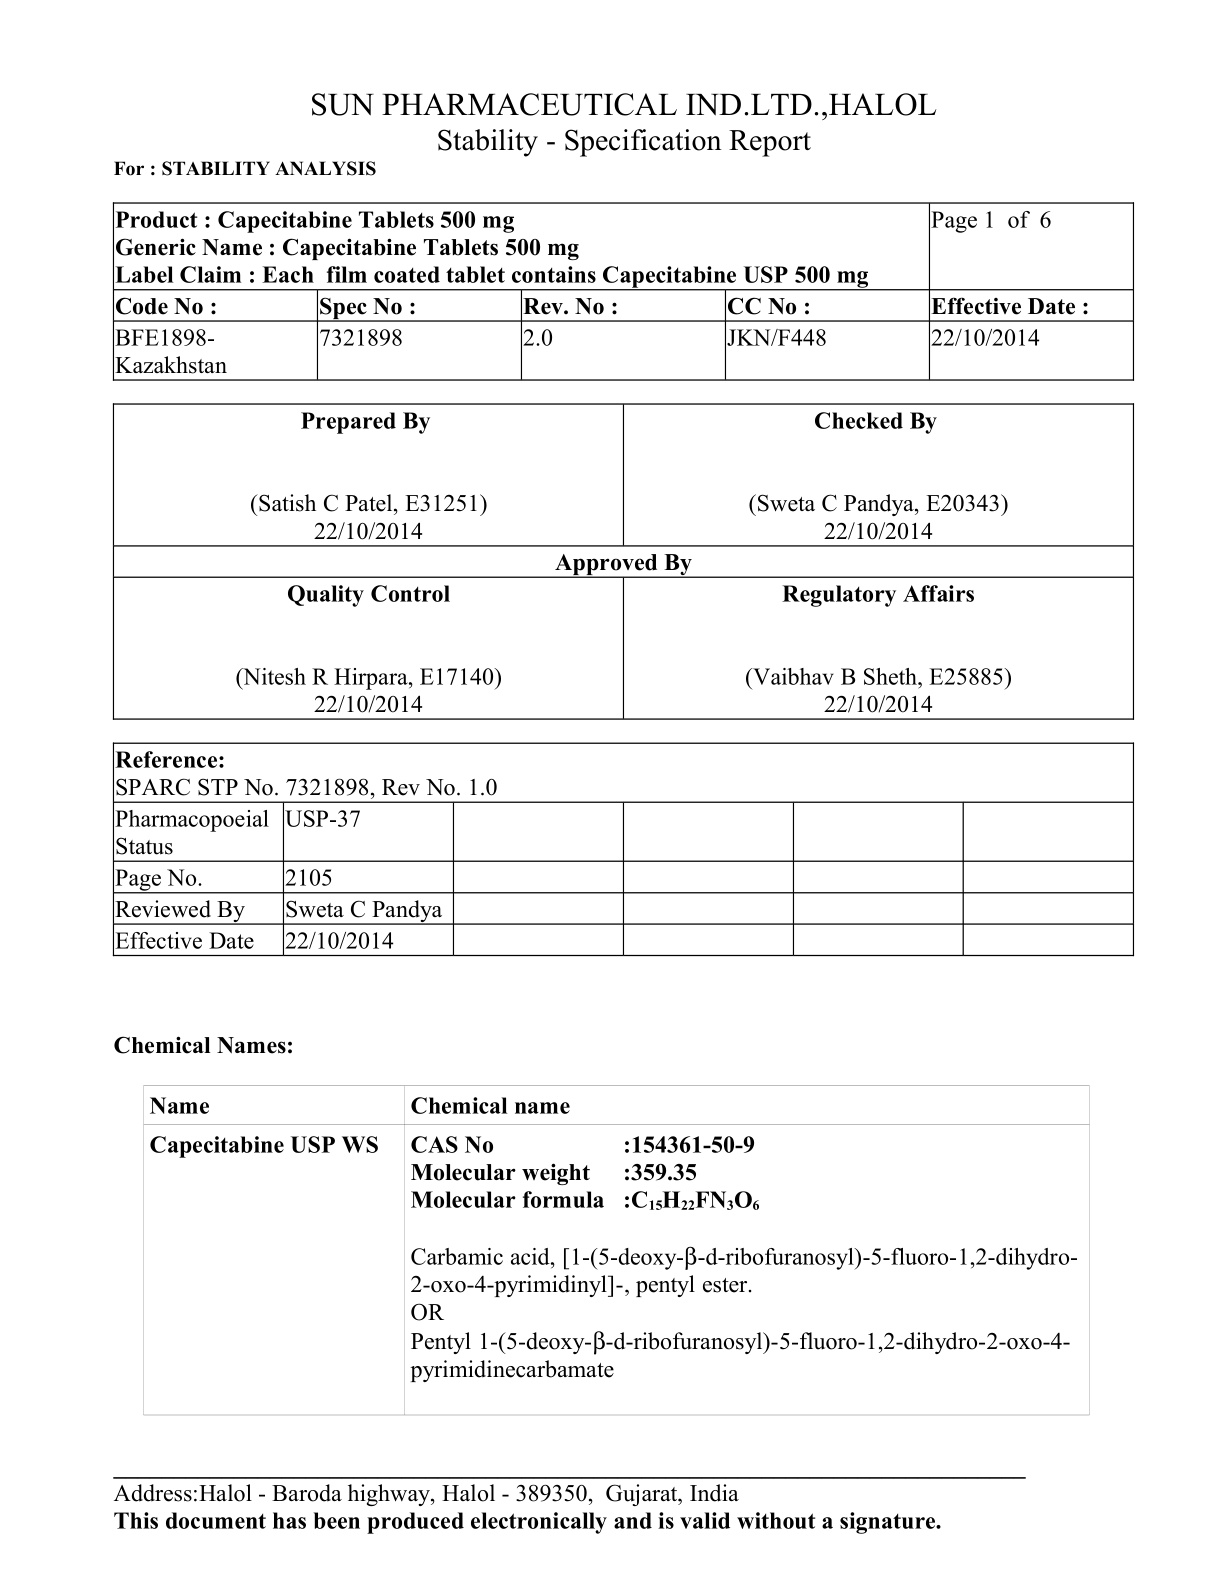full_lined: (141, 1084, 1092, 1417)
merged_cells: (112, 402, 1137, 721), (111, 741, 1137, 958), (111, 201, 1137, 382)
